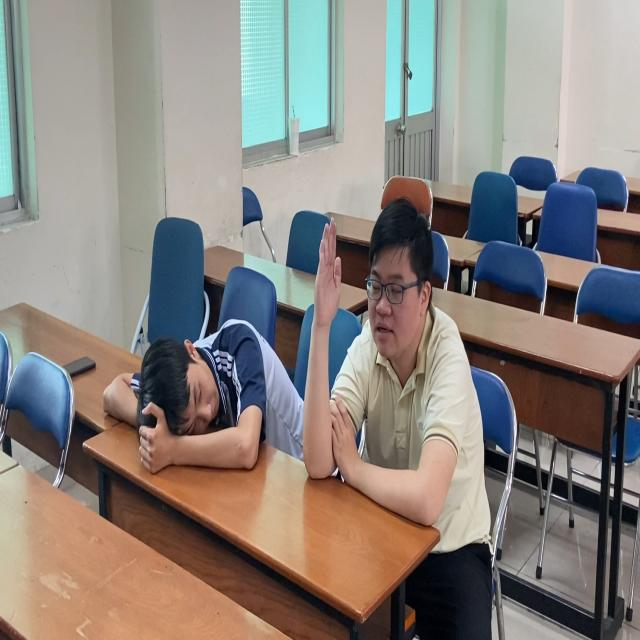raise_hand: (302, 190, 471, 529)
sleep: (99, 311, 304, 487)
